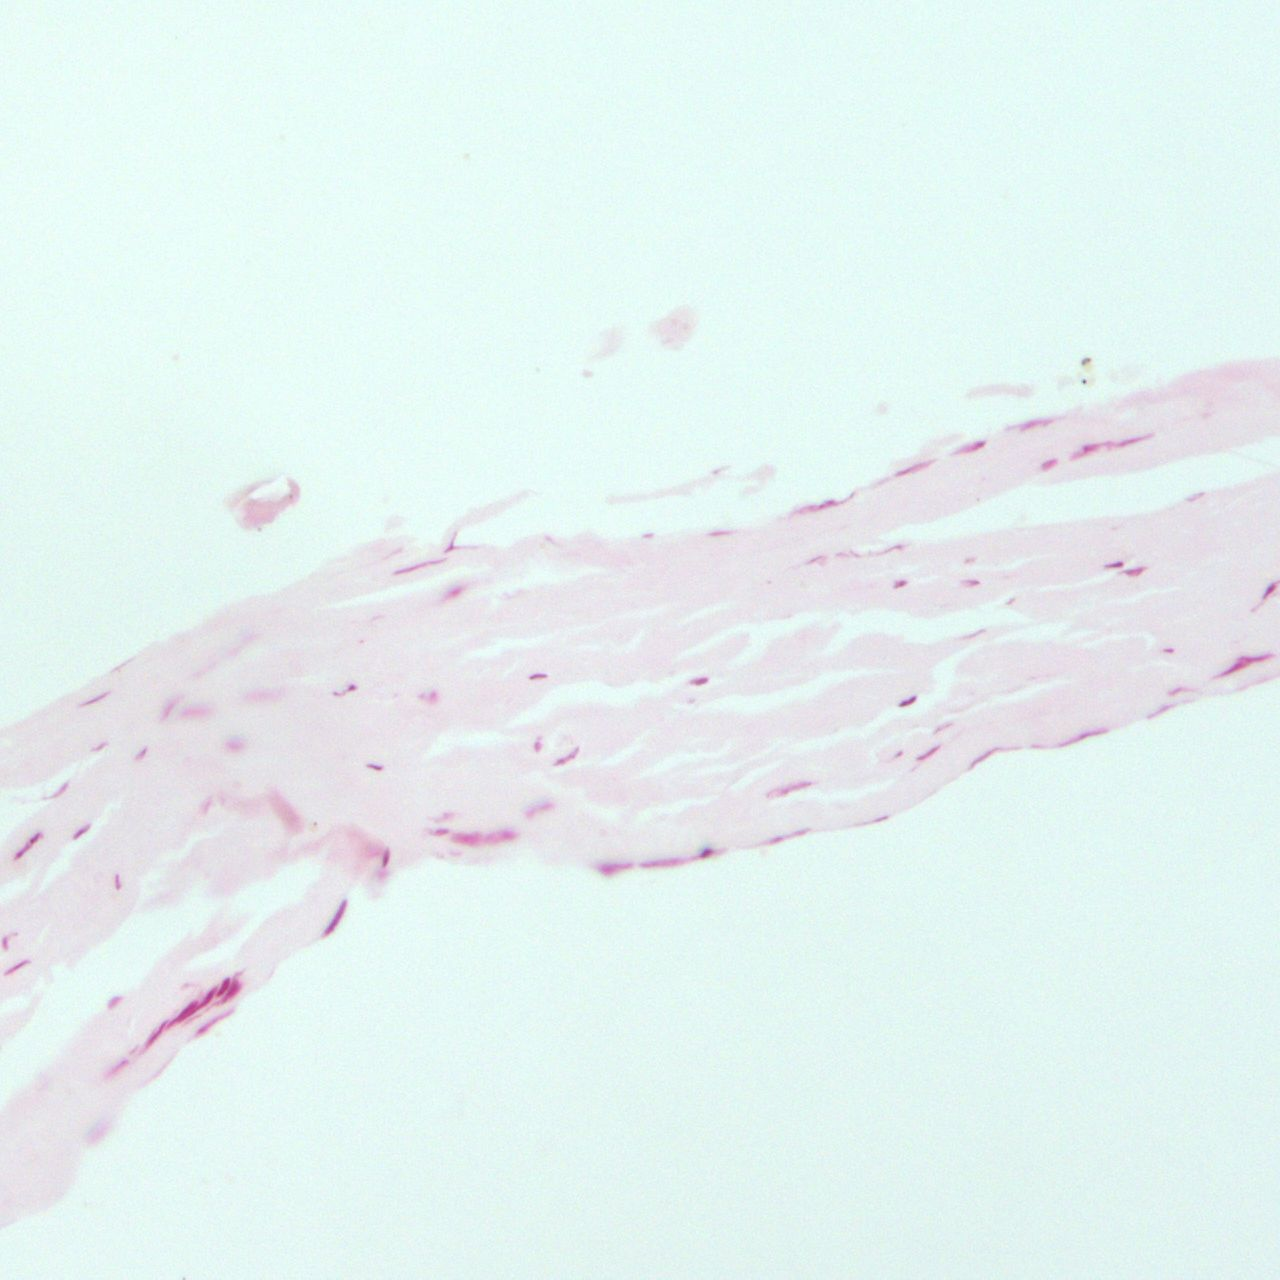dust: (1080, 358, 1091, 366), (1080, 379, 1088, 384)
nucleus-AC: (1068, 425, 1156, 459), (1211, 644, 1275, 681), (641, 849, 723, 869), (795, 490, 855, 516), (193, 1005, 237, 1037), (1055, 724, 1111, 749), (320, 899, 352, 938), (186, 985, 220, 1017), (392, 556, 444, 576), (1003, 415, 1055, 435), (893, 456, 937, 478), (13, 830, 43, 862), (217, 974, 246, 1006), (769, 778, 811, 799), (945, 437, 988, 457), (169, 998, 198, 1027), (768, 826, 811, 845), (552, 744, 583, 770), (969, 743, 1005, 765), (525, 796, 557, 821), (143, 1020, 168, 1049), (588, 860, 632, 877), (914, 740, 945, 762), (80, 688, 111, 709), (156, 694, 181, 721), (4, 956, 33, 978), (105, 1056, 131, 1080), (483, 828, 516, 844), (69, 821, 93, 843), (443, 530, 464, 554), (894, 692, 920, 712), (442, 583, 465, 604), (1258, 579, 1279, 602), (181, 706, 215, 720), (212, 975, 233, 998), (332, 682, 358, 700), (49, 779, 70, 801), (102, 992, 124, 1012), (451, 832, 479, 847), (132, 744, 151, 765), (862, 813, 891, 826), (90, 740, 108, 756), (707, 527, 733, 537), (1122, 567, 1148, 577), (1166, 685, 1189, 695), (1102, 560, 1126, 570), (225, 738, 243, 751), (422, 692, 440, 703), (527, 672, 549, 681), (113, 872, 122, 891), (367, 762, 384, 771), (891, 579, 908, 588), (382, 849, 390, 869), (690, 675, 707, 685), (1040, 459, 1058, 468), (1, 935, 11, 951), (966, 578, 981, 587), (433, 828, 448, 835), (1162, 646, 1177, 653), (535, 741, 543, 753), (642, 531, 653, 539)
